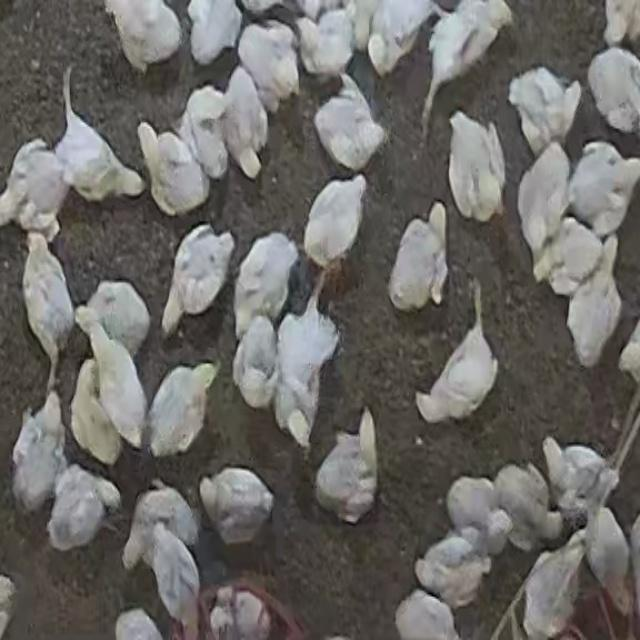chicken: (415, 280, 498, 428), (421, 1, 514, 127), (274, 287, 338, 446), (74, 307, 146, 442), (53, 101, 148, 201), (161, 224, 235, 338), (21, 231, 74, 379), (564, 236, 622, 367), (314, 408, 378, 524), (516, 142, 570, 274), (145, 360, 216, 460), (302, 176, 367, 284), (570, 141, 640, 240), (233, 231, 297, 339), (120, 482, 198, 570), (446, 110, 506, 224), (543, 440, 617, 530), (522, 531, 586, 635), (2, 139, 68, 238), (139, 121, 207, 216), (388, 204, 446, 313), (12, 398, 65, 516), (48, 465, 119, 551), (198, 466, 274, 546), (583, 501, 633, 621), (492, 462, 560, 550), (366, 0, 442, 78), (507, 66, 575, 153), (416, 533, 492, 610), (81, 276, 151, 359), (312, 85, 381, 168), (65, 362, 120, 464), (153, 523, 199, 640), (238, 20, 295, 112), (548, 214, 606, 301), (108, 0, 177, 73), (444, 475, 506, 556), (294, 7, 360, 83), (586, 46, 640, 136), (232, 316, 280, 411), (221, 75, 267, 173), (182, 90, 234, 175), (186, 0, 241, 70), (393, 589, 461, 640), (209, 589, 266, 640), (346, 1, 385, 51), (602, 0, 640, 48)
